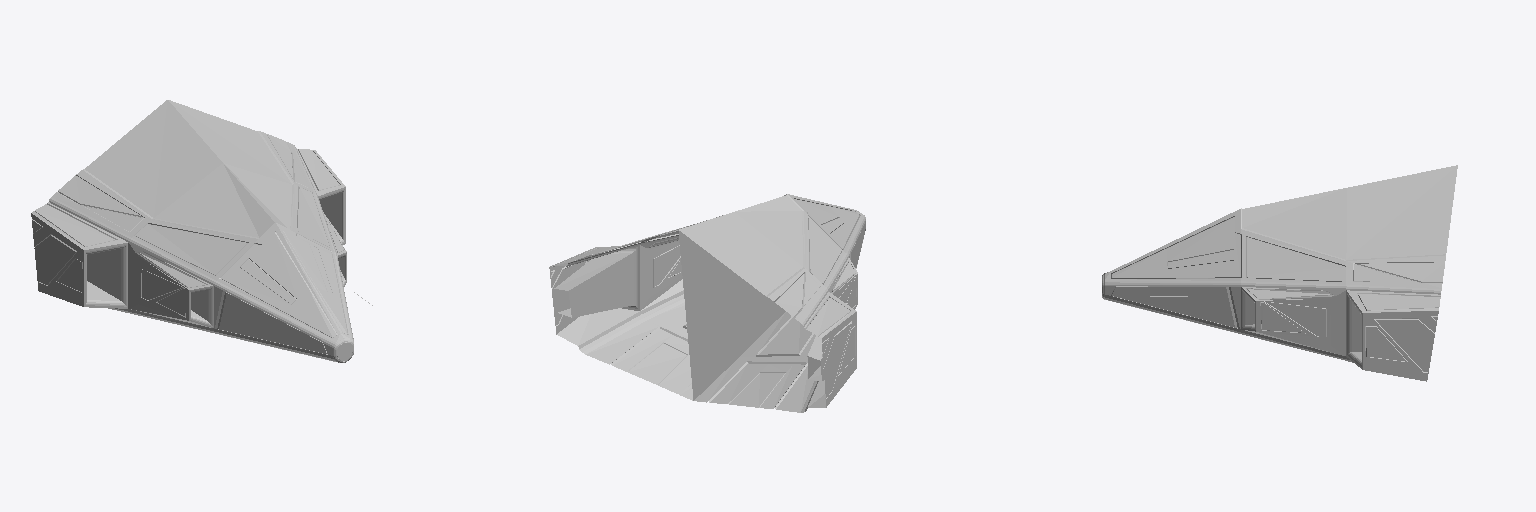
File: spaceshipThird1.obj
The picture shows the model from 3 angles: view 1: azimuth 30°, elevation 25°; view 2: azimuth 150°, elevation 25°; view 3: azimuth 270°, elevation 25°; orthographic projection.
Parts seen in each view (by area): view 1: spaceship.001; view 2: spaceship.001; view 3: spaceship.001.
Boxes of the visible parts, box(x1,y1,x2,y2) form: spaceship.001: box(31, 100, 372, 362); spaceship.001: box(549, 194, 865, 412); spaceship.001: box(1102, 165, 1457, 381).
Bounding box in the file's own units: 2.27 × 1.42 × 2.51.